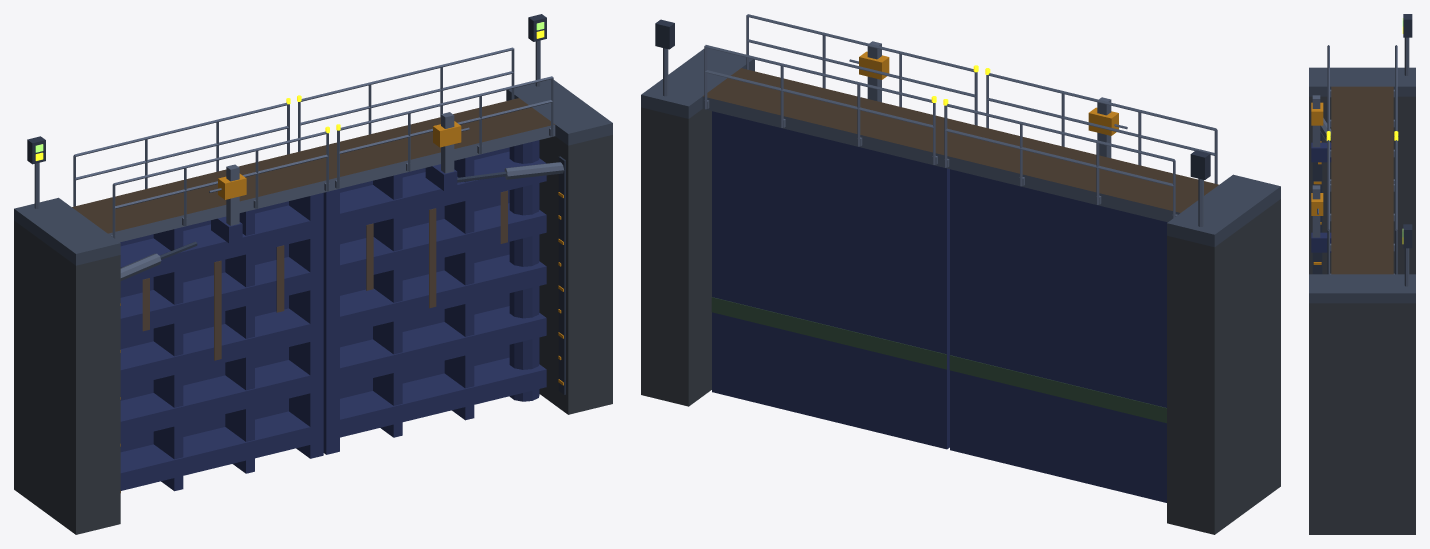
The model's file is dock_lock_gate.glb.
3 renders of one model, left to right at view 1: azimuth 30°, elevation 25°; view 2: azimuth 150°, elevation 25°; view 3: azimuth 270°, elevation 25°, orthographic. The views are drawn at different scales.
Parts seen in each view (by area): view 1: leaf, abutment, walk_slab, steelwork, coping, rust_streak, trim, gauge_mark; view 2: leaf, abutment, walk_slab, steelwork, coping, algae_line, gauge_mark, trim; view 3: abutment, walk_slab, coping, steelwork, trim, leaf, gauge_mark.
Boxes of the visible parts, x1,y1,x2,y2 form: leaf: [120, 140, 546, 491]; abutment: [14, 100, 612, 534]; walk_slab: [72, 98, 555, 242]; steelwork: [34, 40, 563, 280]; coping: [14, 79, 612, 265]; rust_streak: [142, 190, 507, 360]; trim: [27, 14, 565, 394]; gauge_mark: [120, 121, 563, 492]; leaf: [712, 111, 1167, 502]; abutment: [641, 71, 1280, 534]; walk_slab: [702, 68, 1218, 222]; steelwork: [663, 14, 1217, 226]; coping: [641, 48, 1280, 247]; algae_line: [711, 297, 1166, 423]; gauge_mark: [859, 51, 1118, 135]; trim: [655, 19, 1210, 179]; abutment: [1309, 96, 1415, 534]; walk_slab: [1331, 86, 1393, 274]; coping: [1309, 67, 1415, 303]; steelwork: [1312, 37, 1409, 286]; trim: [1312, 14, 1412, 274]; leaf: [1311, 142, 1331, 252]; gauge_mark: [1311, 102, 1323, 264].
Size of the model in its own units: 12 by 7.45 by 2.4.
